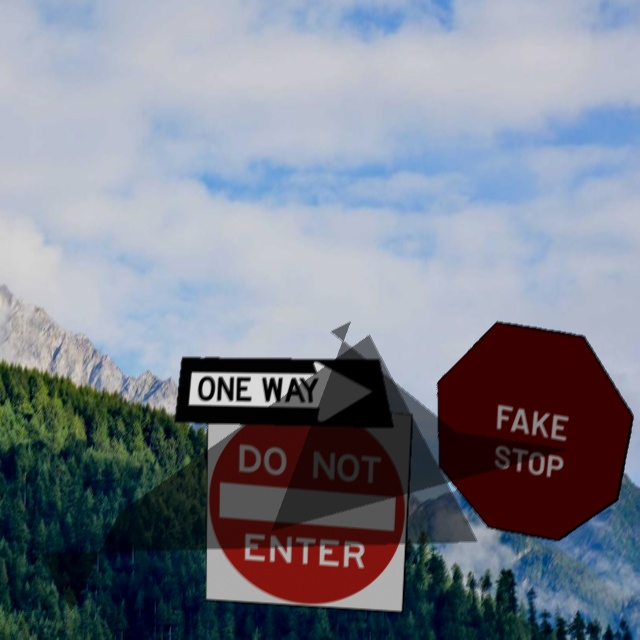DO_NOT_ENTER: (205, 393, 413, 613)
FAKE_STOP: (437, 321, 634, 541)
ONE_WAY_ right: (174, 357, 394, 428)
